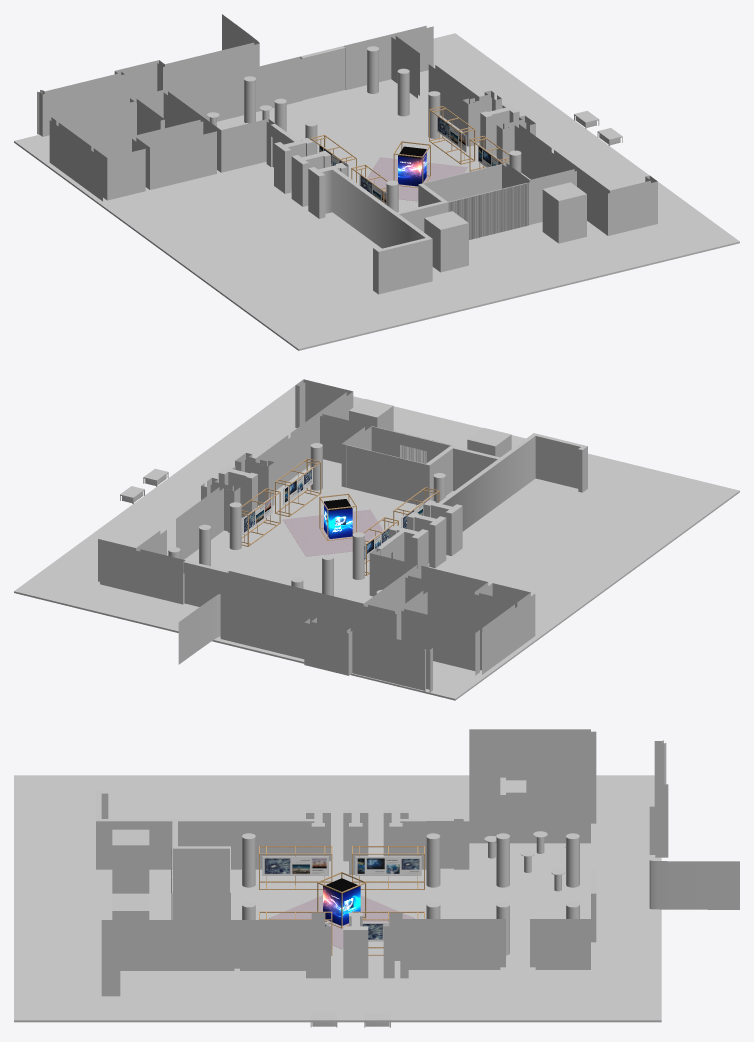
The picture shows the model from 3 angles, top to bottom: view 1: azimuth 30°, elevation 25°; view 2: azimuth 150°, elevation 25°; view 3: azimuth 270°, elevation 25°; orthographic projection. The views are drawn at different scales.
Visible parts, largest first — view 1: Shape003_Floor_0, Shape002_Wall_0, Shape005_Wall_0, Line023, Shape1_Carpet_0, Box050_Wall_0, Box129_Wall_0, Shape031, Box052_Wall_0; view 2: Shape002_Wall_0, Shape003_Floor_0, Shape005_Wall_0, Box050_Wall_0, Shape1_Carpet_0, Box063_Wall_0, Box129_Wall_0, Box098_Wall_0, Shape031, Box052_Wall_0; view 3: Shape003_Floor_0, Shape002_Wall_0, Shape005_Wall_0, Shape1_Carpet_0, Shape048_Board_0, Shape044_Board_0, Shape031, Box131_Wall_0.
Boxes of the visible parts, x1,y1,x2,y2 form: Shape003_Floor_0: [14, 33, 739, 350]; Shape002_Wall_0: [37, 14, 657, 294]; Shape005_Wall_0: [244, 46, 521, 212]; Line023: [448, 183, 528, 239]; Shape1_Carpet_0: [367, 157, 467, 201]; Box050_Wall_0: [423, 164, 501, 200]; Box129_Wall_0: [303, 59, 345, 99]; Shape031: [398, 149, 426, 186]; Box052_Wall_0: [300, 46, 345, 69]; Shape002_Wall_0: [98, 379, 587, 693]; Shape003_Floor_0: [14, 386, 739, 700]; Shape005_Wall_0: [168, 443, 445, 596]; Box050_Wall_0: [346, 445, 425, 504]; Shape1_Carpet_0: [282, 509, 383, 556]; Box063_Wall_0: [371, 426, 450, 462]; Box129_Wall_0: [184, 574, 225, 606]; Box098_Wall_0: [374, 463, 401, 500]; Shape031: [324, 502, 352, 538]; Box052_Wall_0: [183, 560, 228, 583]; Shape003_Floor_0: [14, 775, 661, 1022]; Shape002_Wall_0: [96, 729, 739, 996]; Shape005_Wall_0: [242, 833, 579, 955]; Shape1_Carpet_0: [269, 895, 414, 949]; Shape048_Board_0: [262, 856, 328, 875]; Shape044_Board_0: [355, 856, 421, 875]; Shape031: [323, 886, 360, 925]; Box131_Wall_0: [426, 834, 453, 868].
Bounding box in the file's own units: 1322 × 123 × 1608.
Materials: 8 (4 with a texture image).
